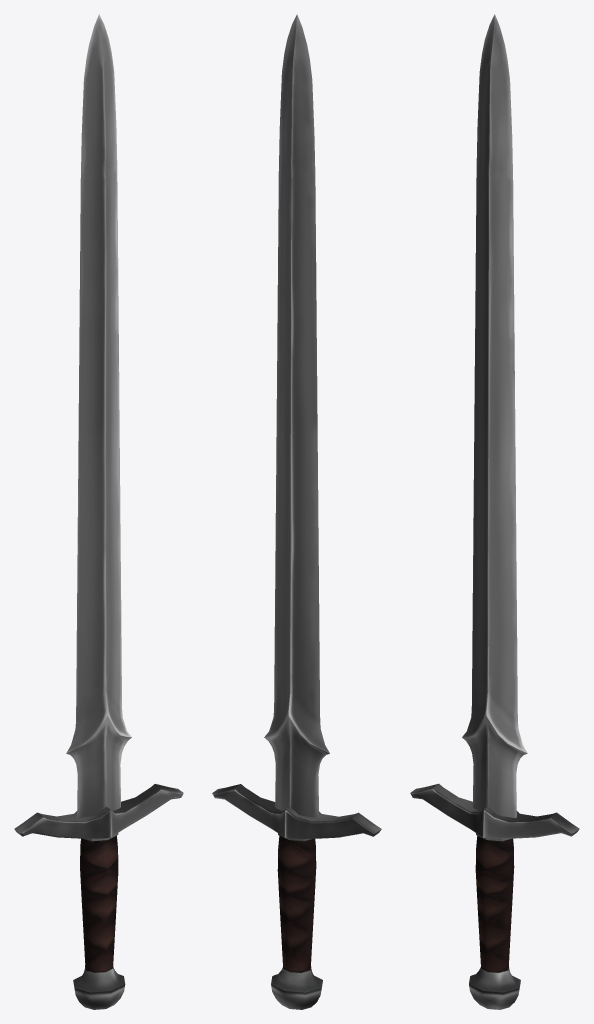
Rendered from sword.fbx.
3 renders of one model, left to right at view 1: azimuth 30°, elevation 25°; view 2: azimuth 150°, elevation 25°; view 3: azimuth 330°, elevation 25°, orthographic.
Visible parts, largest first — view 1: handle; view 2: handle; view 3: handle.
Boxes of the visible parts, bbox=[...] form: handle: bbox=[14, 14, 183, 1009]; handle: bbox=[212, 14, 381, 1009]; handle: bbox=[410, 14, 579, 1009].
Size of the model in its own units: 2.15 by 12.44 by 0.5541.
